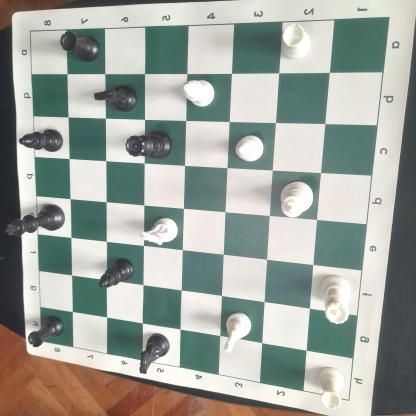black-bishop: (96, 255, 138, 291), (18, 126, 64, 156)
black-king: (4, 199, 68, 242)
black-knight: (136, 332, 173, 375), (94, 83, 140, 115)
black-queen: (124, 127, 174, 163)
black-rook: (58, 28, 100, 64), (25, 313, 65, 350)
white-bishop: (180, 76, 218, 110), (232, 132, 267, 164)
white-king: (276, 178, 318, 221)
white-knight: (221, 309, 254, 354), (139, 214, 181, 249)
white-queen: (317, 273, 355, 326)
white-rook: (314, 363, 346, 412), (278, 23, 314, 63)
